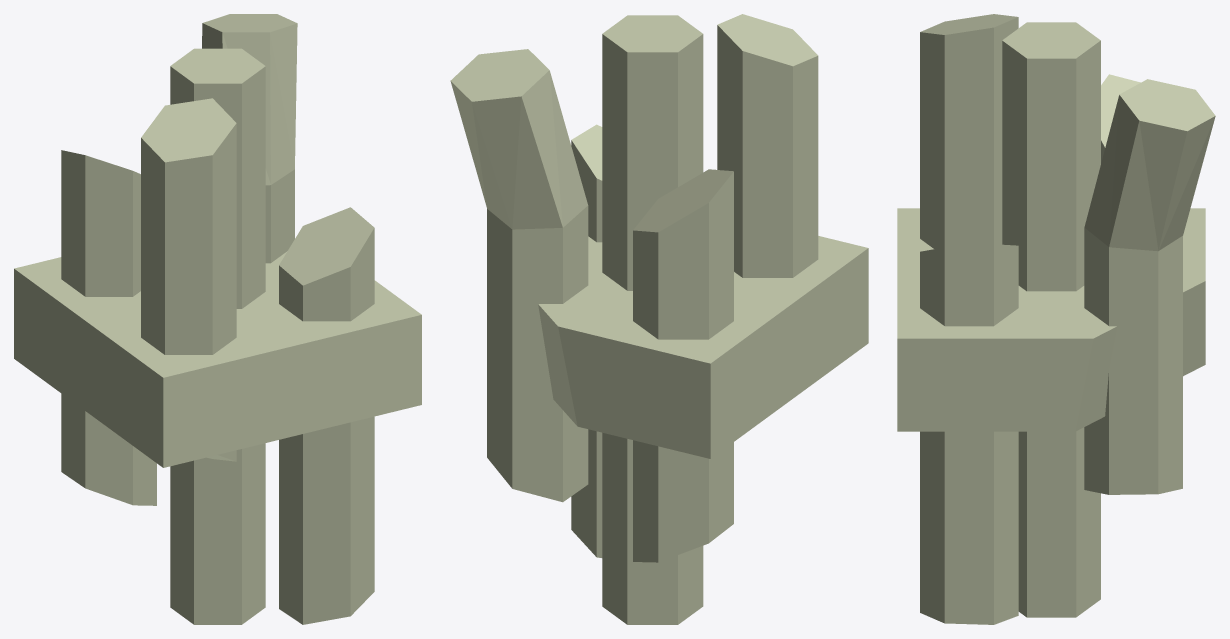
The model's file is deb_element.obj.
3 renders of one model, left to right at view 1: azimuth 30°, elevation 25°; view 2: azimuth 150°, elevation 25°; view 3: azimuth 270°, elevation 25°, orthographic. The views are drawn at different scales.
Parts seen in each view (by area): view 1: Cube_Cube.001; view 2: Cube_Cube.001; view 3: Cube_Cube.001.
Part boxes in pixels (x1,y1,x2,y2): Cube_Cube.001: (14, 14, 421, 624); Cube_Cube.001: (450, 14, 868, 624); Cube_Cube.001: (897, 14, 1215, 624).
Size of the model in its own units: 0.375 by 0.75 by 0.3871.
